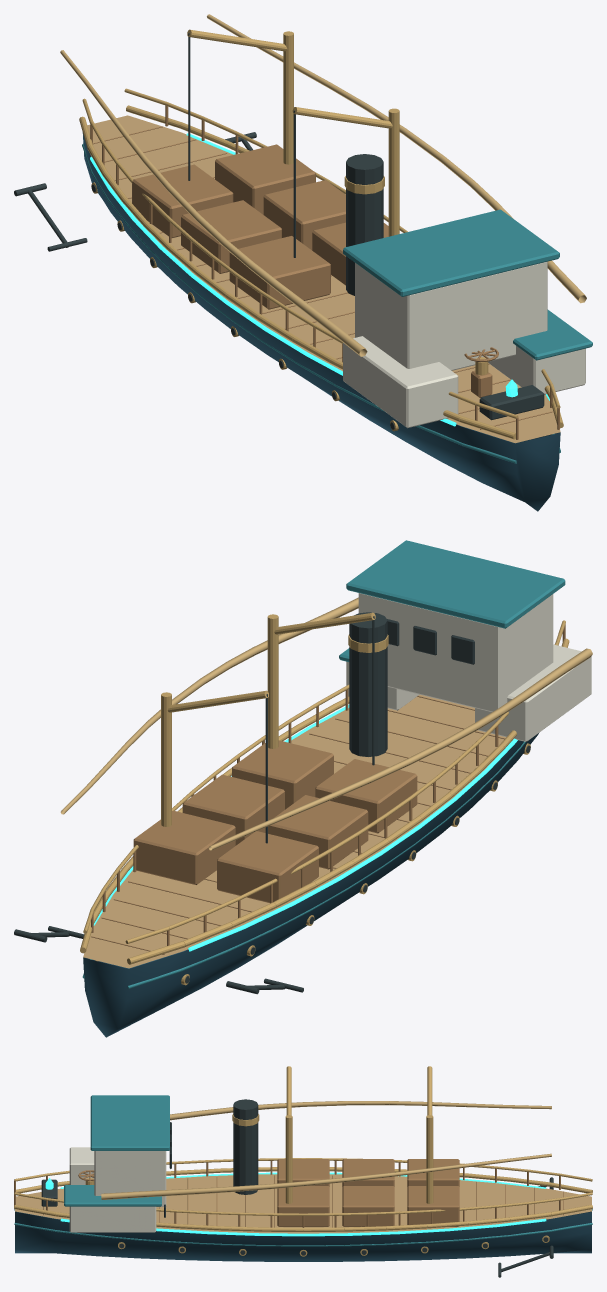
Rendered from ship_freighter.glb.
3 renders of one model, top to bottom at view 1: azimuth 30°, elevation 25°; view 2: azimuth 150°, elevation 25°; view 3: azimuth 270°, elevation 25°, orthographic. The views are drawn at different scales.
Visible parts, largest first — view 1: ship_freighter; view 2: ship_freighter; view 3: ship_freighter.
Boxes of the visible parts, box(x1,y1,x2,y2) form: ship_freighter: box(14, 14, 592, 511); ship_freighter: box(14, 540, 592, 1037); ship_freighter: box(14, 1066, 592, 1277).
Bounding box in the file's own units: 5.4 × 5.37 × 16.05.
